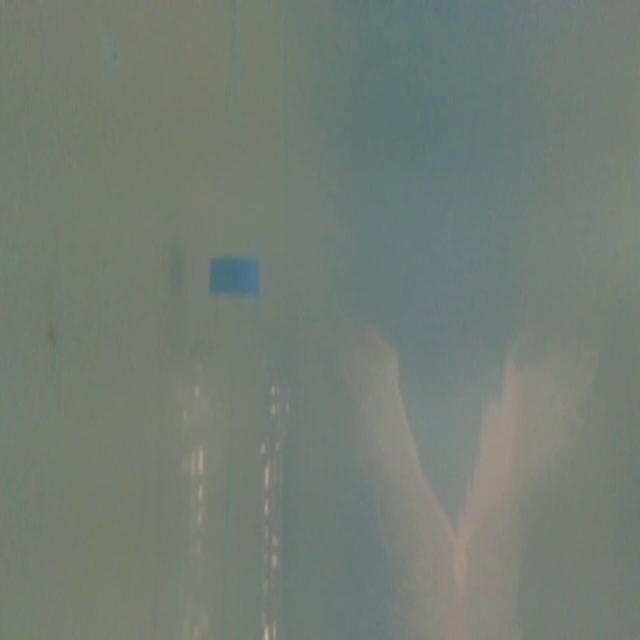plastic bags: (336, 322, 530, 640)
plastic bottle: (164, 253, 304, 640)
